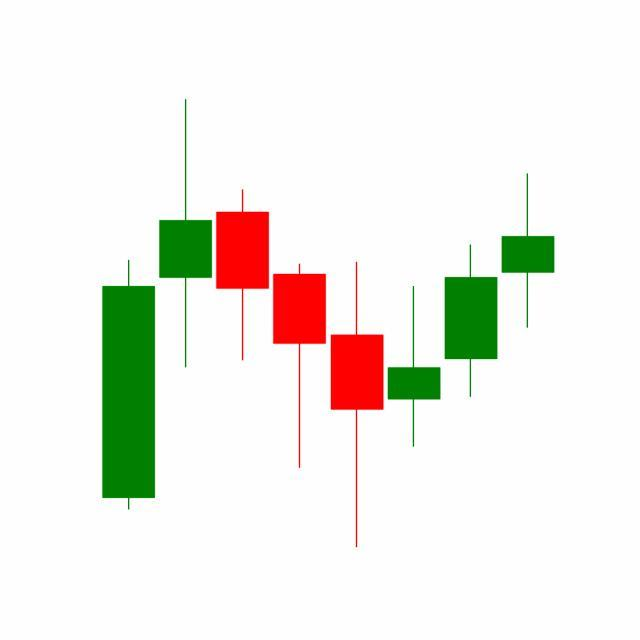Hikkake Pattern: (214, 185, 501, 549)
